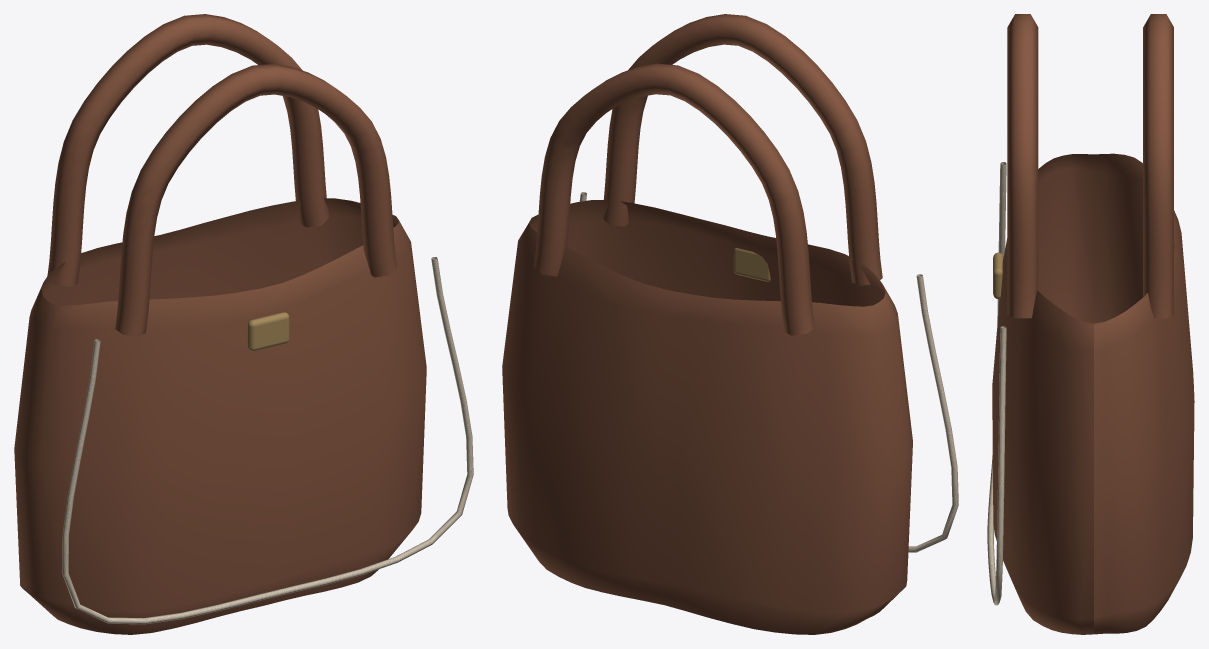
3 renders of one model, left to right at view 1: azimuth 30°, elevation 25°; view 2: azimuth 150°, elevation 25°; view 3: azimuth 270°, elevation 25°, orthographic.
Visible parts, largest first — view 1: leather_tobacco, fabric_linen, aged_brass; view 2: leather_tobacco, fabric_linen, aged_brass; view 3: leather_tobacco, fabric_linen, aged_brass.
Boxes of the visible parts, x1,y1,x2,y2 form: leather_tobacco: [14, 14, 426, 634]; fabric_linen: [62, 257, 473, 624]; aged_brass: [247, 312, 289, 351]; leather_tobacco: [502, 14, 912, 634]; fabric_linen: [579, 192, 958, 552]; aged_brass: [733, 248, 770, 281]; leather_tobacco: [992, 14, 1194, 634]; fabric_linen: [987, 162, 1006, 605]; aged_brass: [993, 252, 1003, 299].
Size of the model in its own units: 0.365 by 0.4604 by 0.1601.
Materials: 3 (1 with a texture image).
